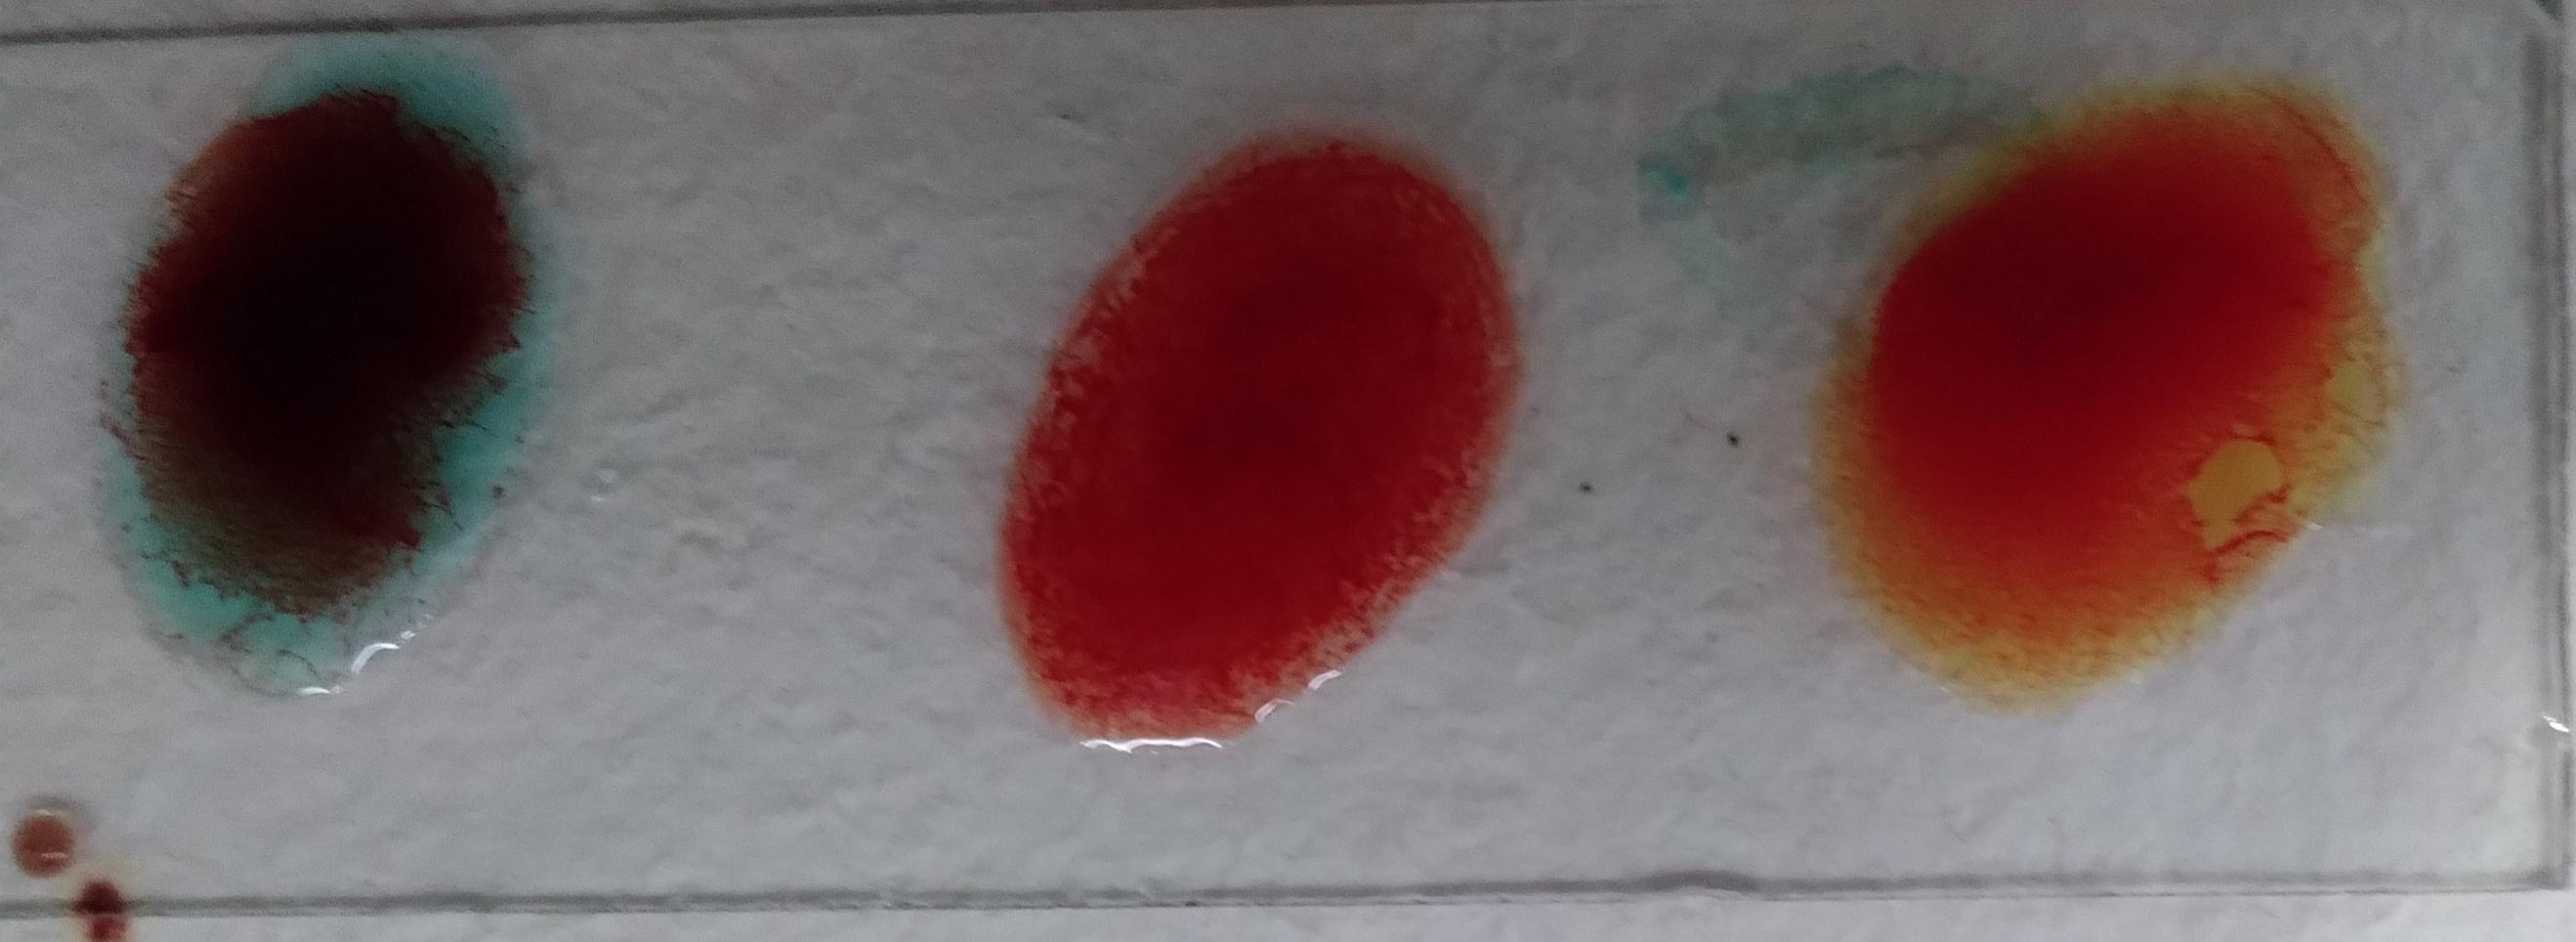A: (2008, 242, 2469, 896)
B: (205, 247, 746, 873)
D: (1060, 171, 1585, 812)
